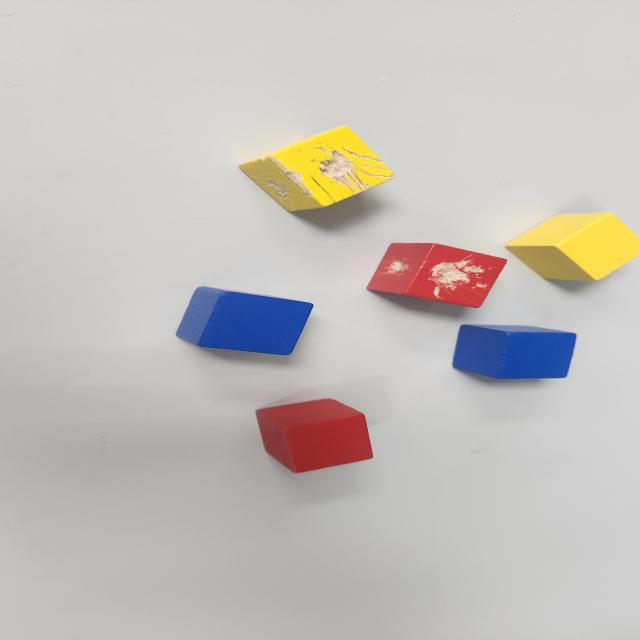blue: (177, 286, 313, 356), (452, 324, 577, 380)
broken: (239, 126, 395, 212), (367, 242, 507, 309)
red: (254, 398, 372, 474)
yellow: (501, 211, 640, 283)
